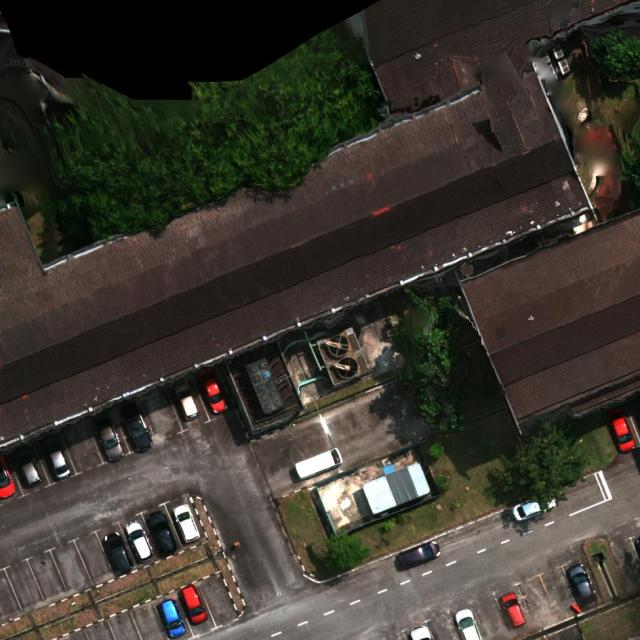Tree: (40, 30, 380, 244), (390, 286, 469, 392), (495, 421, 587, 503), (583, 26, 640, 80), (617, 79, 640, 208), (410, 386, 469, 434), (322, 526, 372, 572), (429, 443, 446, 459), (382, 520, 395, 532)
